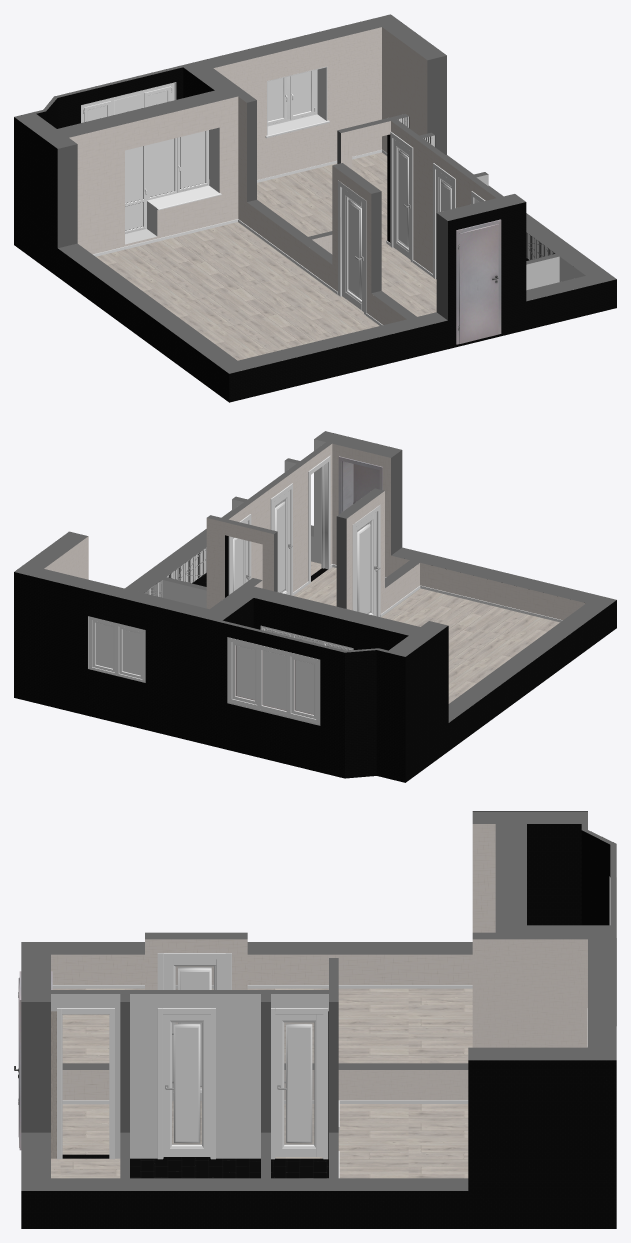
The picture shows the model from 3 angles, top to bottom: view 1: azimuth 30°, elevation 25°; view 2: azimuth 150°, elevation 25°; view 3: azimuth 270°, elevation 25°; orthographic projection. The views are drawn at different scales.
Visible parts, largest first — view 1: Cube, Window, Plane.001_Door_0, window_2, фил 126, Group001, Plane.002, фил 126.002, Cube.001, _222222_white_plastic_matte_0, Line711.002, _111111_white_plastic_matte_0 (+3 smaller); view 2: Cube, Group001, _111111_white_plastic_matte_0, window_2, _222222_white_plastic_matte_0, фил 126, Plane.002, фил 126.001, Line711, Plane.001_Door_0, Shape3108, Line711.004 (+4 smaller); view 3: Cube, фил 125.001, фил 125.002, Line640.001, Line640.003, Line640.002, Shape3108.002, Cube.001, Shape3105.001, Shape3105.002, Shape3108.001, фил 125 (+2 smaller).
Part boxes in pixels (<box>): Cube: <box>14,14,616,402</box>; Window: <box>125,130,221,233</box>; Plane.001_Door_0: <box>458,224,498,343</box>; window_2: <box>265,66,329,138</box>; фил 126: <box>348,199,361,298</box>; Group001: <box>81,82,176,122</box>; Plane.002: <box>456,219,501,344</box>; фил 126.002: <box>398,150,408,247</box>; Cube.001: <box>93,219,382,325</box>; _222222_white_plastic_matte_0: <box>267,69,317,126</box>; Line711.002: <box>390,132,413,262</box>; _111111_white_plastic_matte_0: <box>81,83,174,122</box>; Cube: <box>14,431,616,782</box>; Group001: <box>227,637,320,725</box>; _111111_white_plastic_matte_0: <box>227,637,319,723</box>; window_2: <box>88,616,145,682</box>; _222222_white_plastic_matte_0: <box>88,616,145,682</box>; фил 126: <box>357,523,370,613</box>; Plane.002: <box>338,456,382,514</box>; фил 126.001: <box>275,501,285,592</box>; Line711: <box>352,504,380,617</box>; Plane.001_Door_0: <box>353,464,379,503</box>; Shape3108: <box>368,512,376,616</box>; Line711.004: <box>308,455,330,583</box>; Cube: <box>21,811,616,1228</box>; фил 125.001: <box>173,1024,200,1143</box>; фил 125.002: <box>286,1024,312,1143</box>; Line640.001: <box>157,1008,215,1159</box>; Line640.003: <box>57,1008,114,1159</box>; Line640.002: <box>271,1008,328,1159</box>; Shape3108.002: <box>275,1014,284,1156</box>; Cube.001: <box>52,985,472,988</box>; Shape3105.001: <box>202,1014,210,1156</box>; Shape3105.002: <box>314,1014,322,1156</box>; Shape3108.001: <box>163,1014,171,1156</box>; фил 125: <box>178,968,211,1086</box>.
Size of the model in its own units: 38.53 by 12.17 by 39.43.
28 materials, 6 textured.
